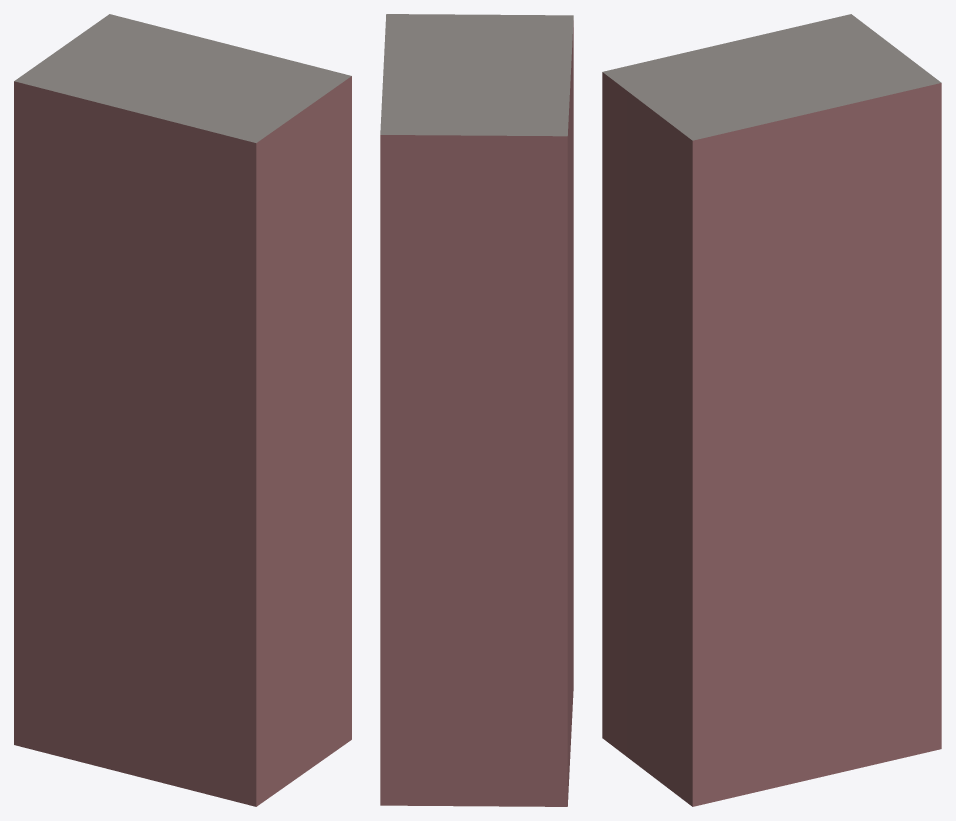
Rendered from nyc-1015239-0.glb.
3 renders of one model, left to right at view 1: azimuth 30°, elevation 25°; view 2: azimuth 150°, elevation 25°; view 3: azimuth 270°, elevation 25°, orthographic.
Parts seen in each view (by area): view 1: nyc-1015239-0; view 2: nyc-1015239-0; view 3: nyc-1015239-0.
Part boxes in pixels (x1,y1,x2,y2): nyc-1015239-0: (14, 14, 351, 806); nyc-1015239-0: (380, 14, 573, 806); nyc-1015239-0: (602, 14, 941, 806).
Bounding box in the file's own units: 29.84 × 73.14 × 33.77.
